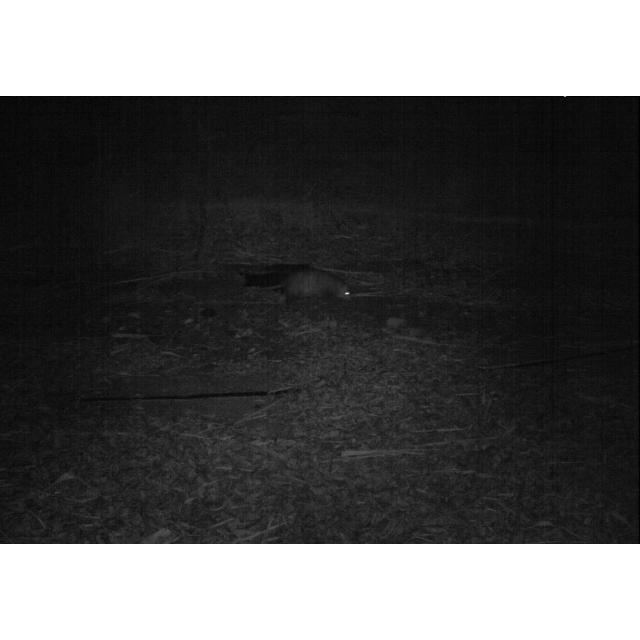animals: (254, 266, 356, 302)
